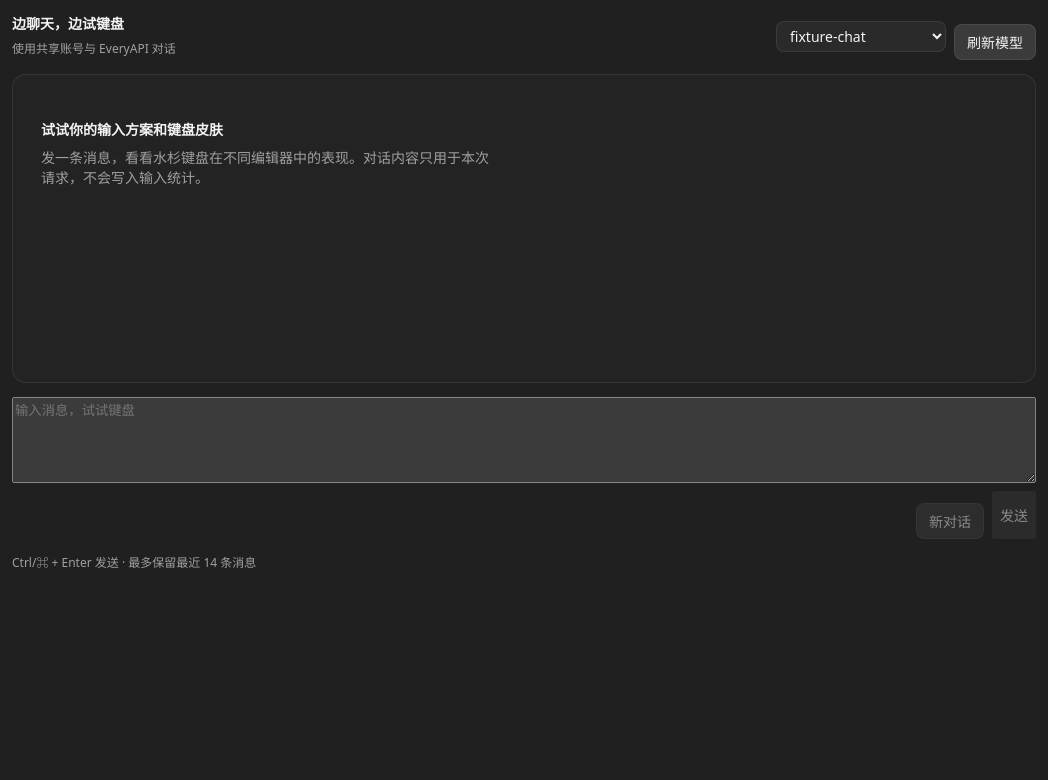
Scenario: shows an actionable error and retries the latest user message
Expected: the dropdown named "聊天模型" is shown, [776,20,946,52]
Type "retry fixture" into the text box named "聊天消息".
click(524, 440); type("retry fixture")  # box [12,397,1036,483]
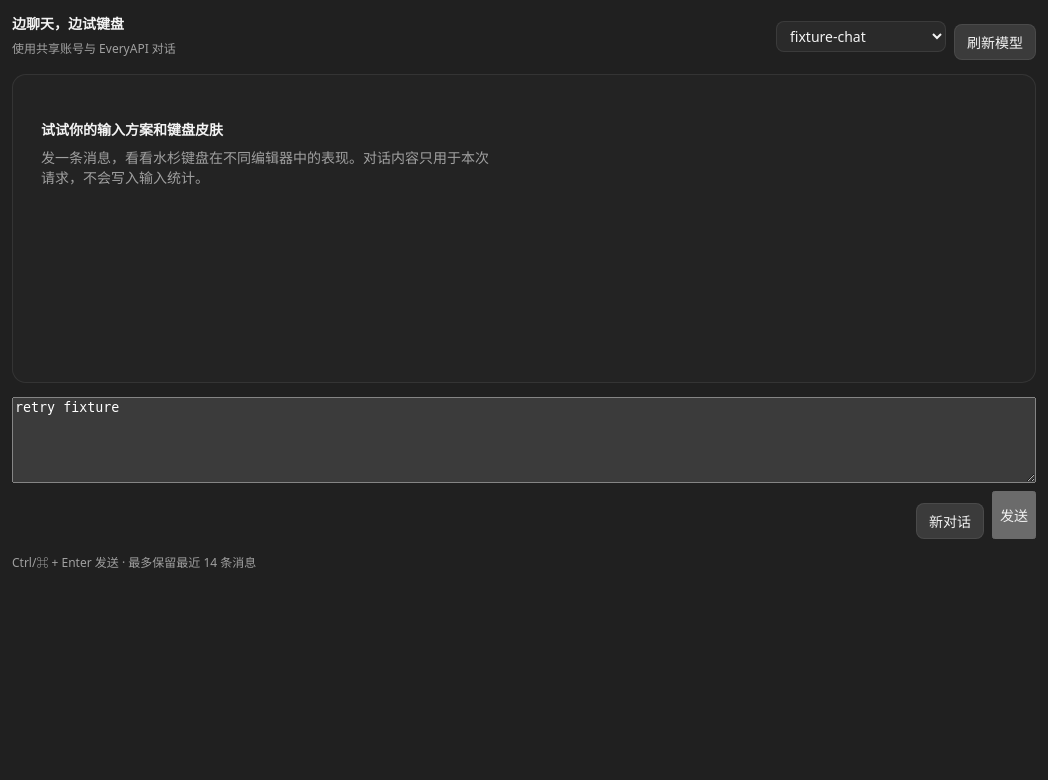
Click the button "发送".
click(1014, 515)  # box [992,491,1036,539]
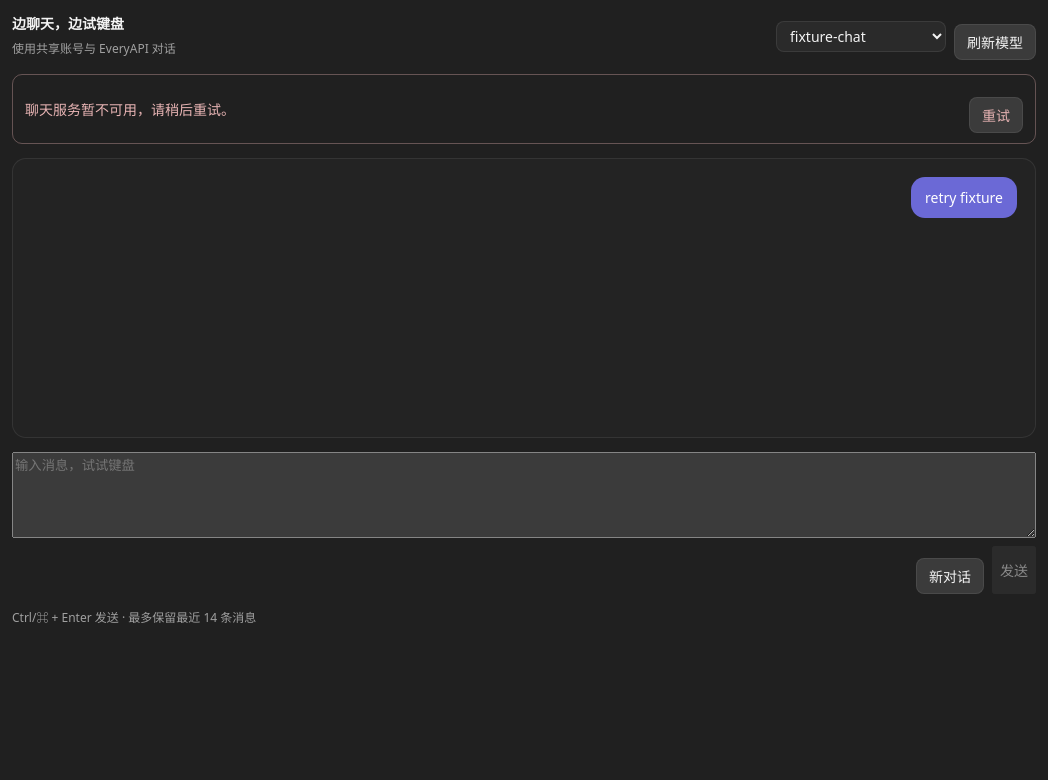
Expected: the message "聊天服务暂不可用，请稍后重试。 重试" is shown, [12,74,1036,144]
Click the button "重试".
click(996, 115)  # box [969,97,1023,133]
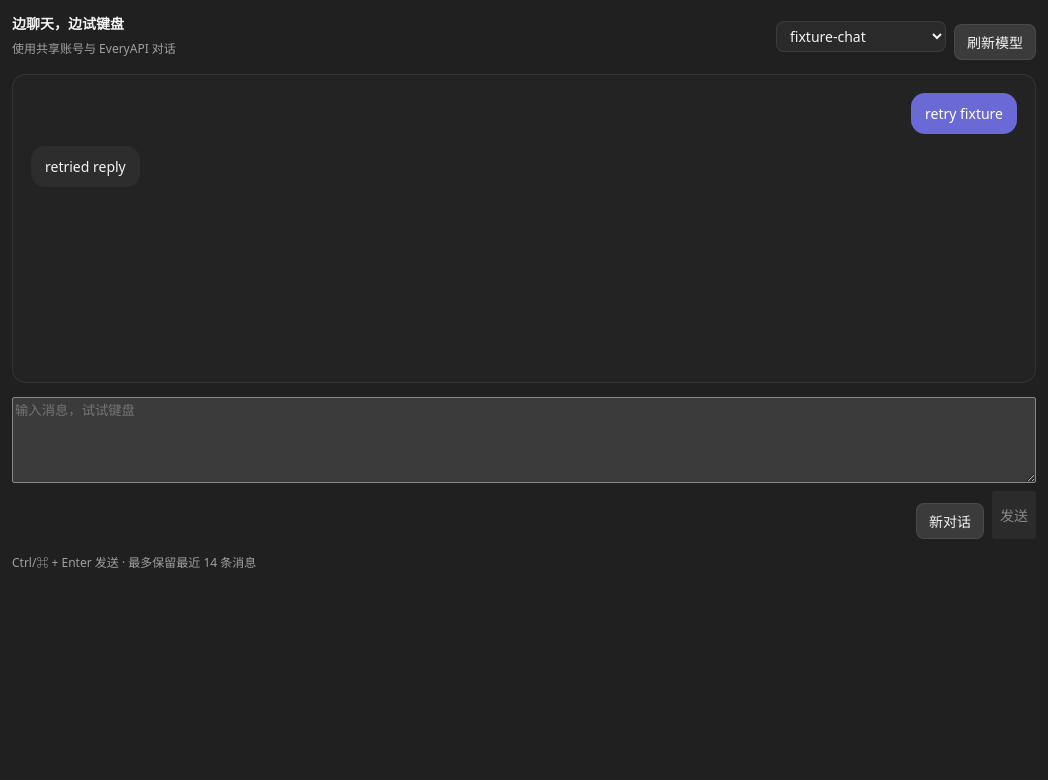
Expected: the text "retried reply" is shown, [31,146,140,187]
